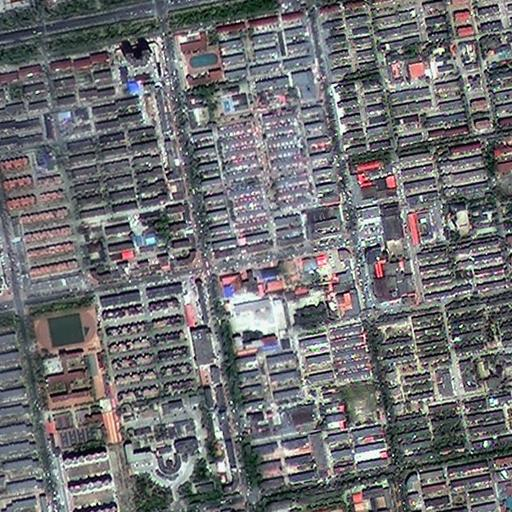school: (26, 301, 108, 454), (173, 28, 227, 87)
